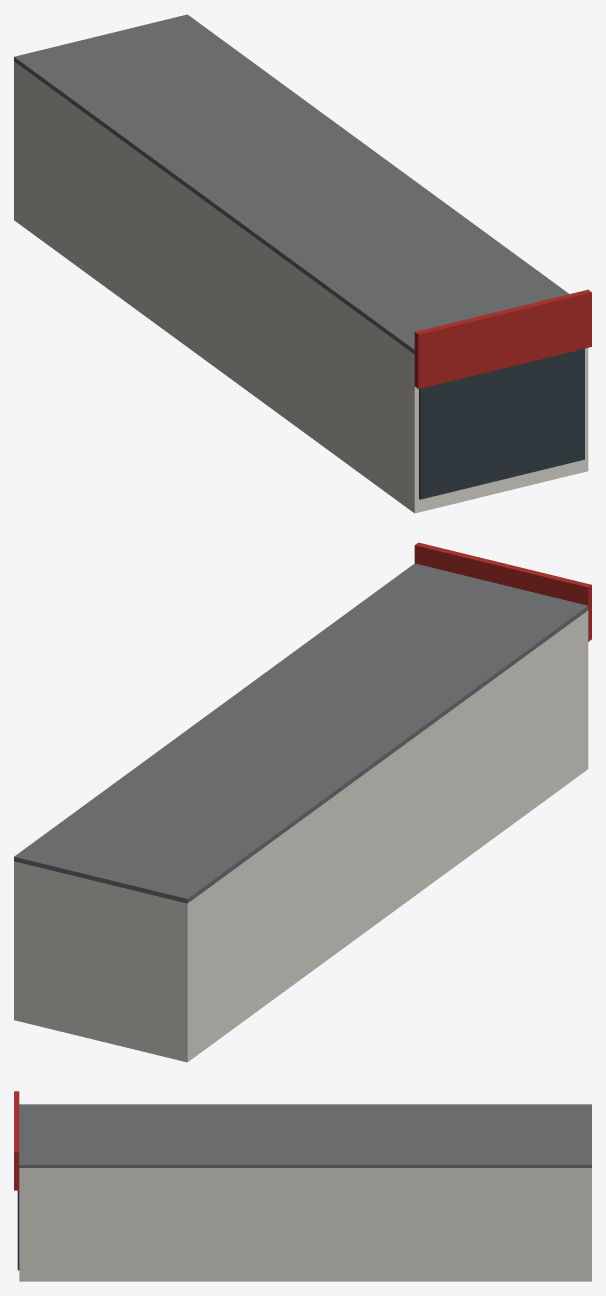
File: kiosk-bay.glb
3 views of the same model, one above another, from view 1: azimuth 30°, elevation 25°; view 2: azimuth 150°, elevation 25°; view 3: azimuth 270°, elevation 25° (orthographic). The views are drawn at different scales.
Visible parts, largest first — view 1: kiosk-bay; view 2: kiosk-bay; view 3: kiosk-bay.
Boxes of the visible parts, box(x1,y1,x2,y2) form: kiosk-bay: box(14, 14, 591, 513); kiosk-bay: box(14, 542, 591, 1062); kiosk-bay: box(14, 1091, 591, 1281).
Size of the model in its own units: 4 by 4 by 16.15.
